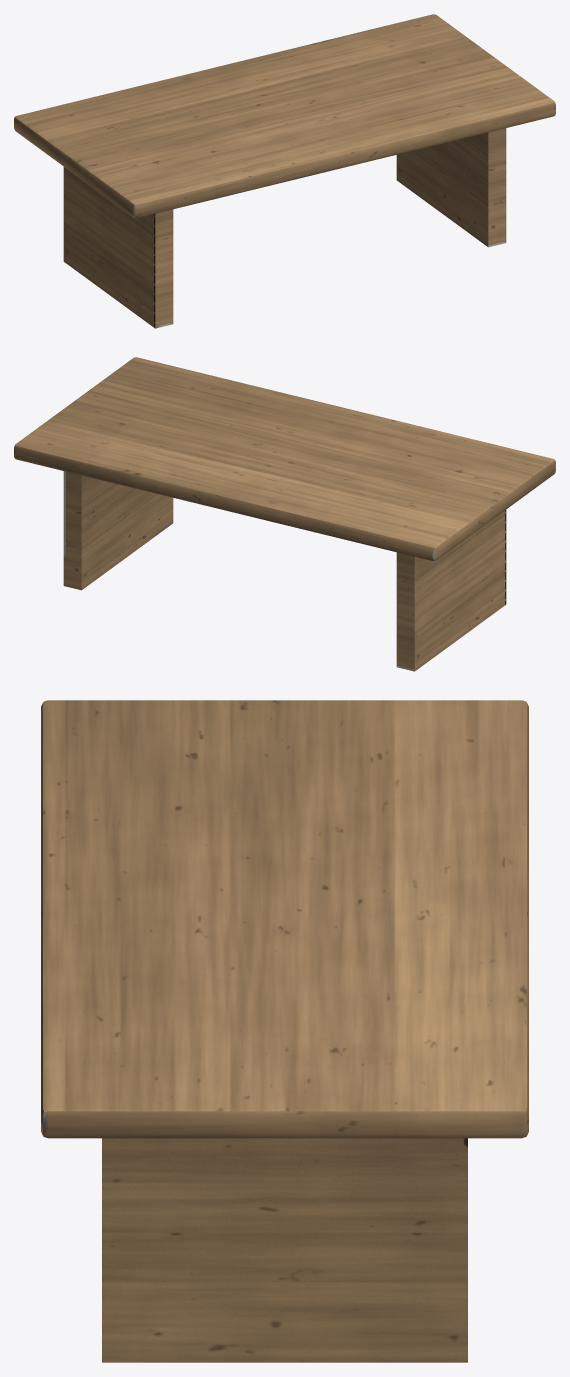
The model's file is H_DiningTable.fbx.
The picture shows the model from 3 angles, top to bottom: view 1: azimuth 30°, elevation 25°; view 2: azimuth 150°, elevation 25°; view 3: azimuth 270°, elevation 25°; orthographic projection. The views are drawn at different scales.
Visible parts, largest first — view 1: H_DiningTable; view 2: H_DiningTable; view 3: H_DiningTable.
Part boxes in pixels (x1,y1,x2,y2): H_DiningTable: (14,14,555,328); H_DiningTable: (14,357,555,671); H_DiningTable: (41,700,528,1362).
Size of the model in its own units: 800 by 260 by 400.
Materials: 1 (1 with a texture image).
